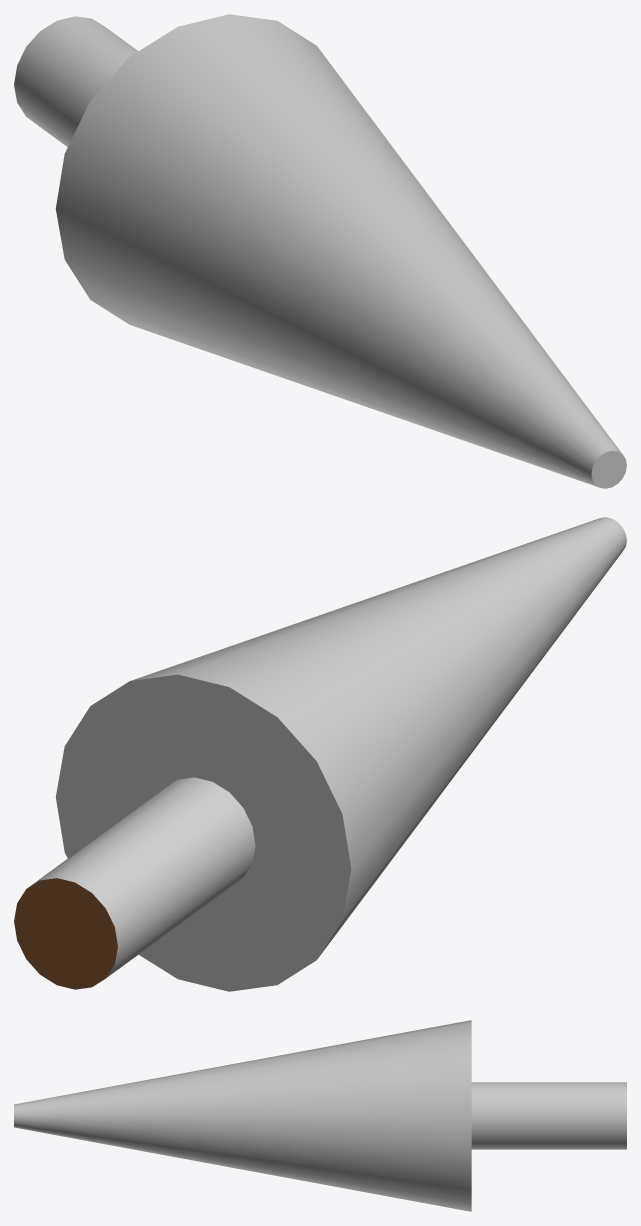
File: Tree.obj
3 renders of one model, top to bottom at view 1: azimuth 30°, elevation 25°; view 2: azimuth 150°, elevation 25°; view 3: azimuth 270°, elevation 25°, orthographic. The views are drawn at different scales.
Parts seen in each view (by area): view 1: Cylinder002, Log; view 2: Cylinder002, Log, Cylinder001; view 3: Cylinder002, Log.
Boxes of the visible parts, box(x1,y1,x2,y2) form: Cylinder002: box(55, 14, 626, 488); Log: box(14, 16, 138, 146); Cylinder002: box(55, 517, 626, 991); Log: box(28, 777, 255, 977); Cylinder001: box(14, 878, 117, 989); Cylinder002: box(14, 1020, 471, 1211); Log: box(471, 1082, 626, 1149).
Bounding box in the file's own units: 5.68 × 5.6 × 18.09.
